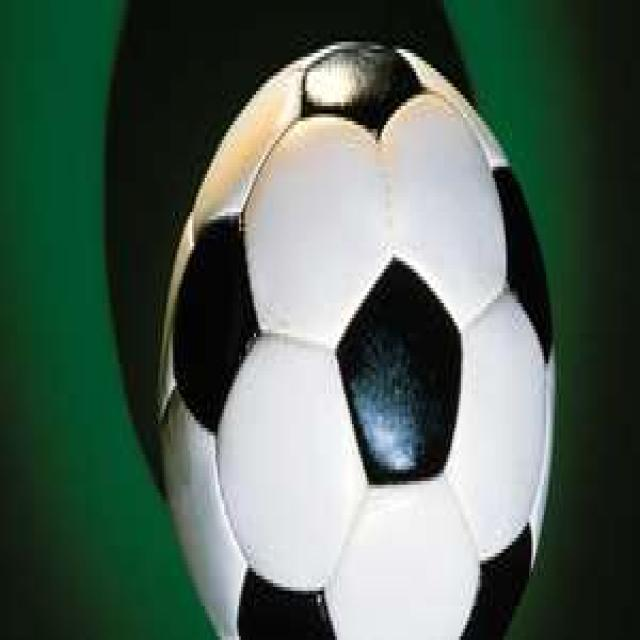soccer ball: (160, 38, 557, 640)
